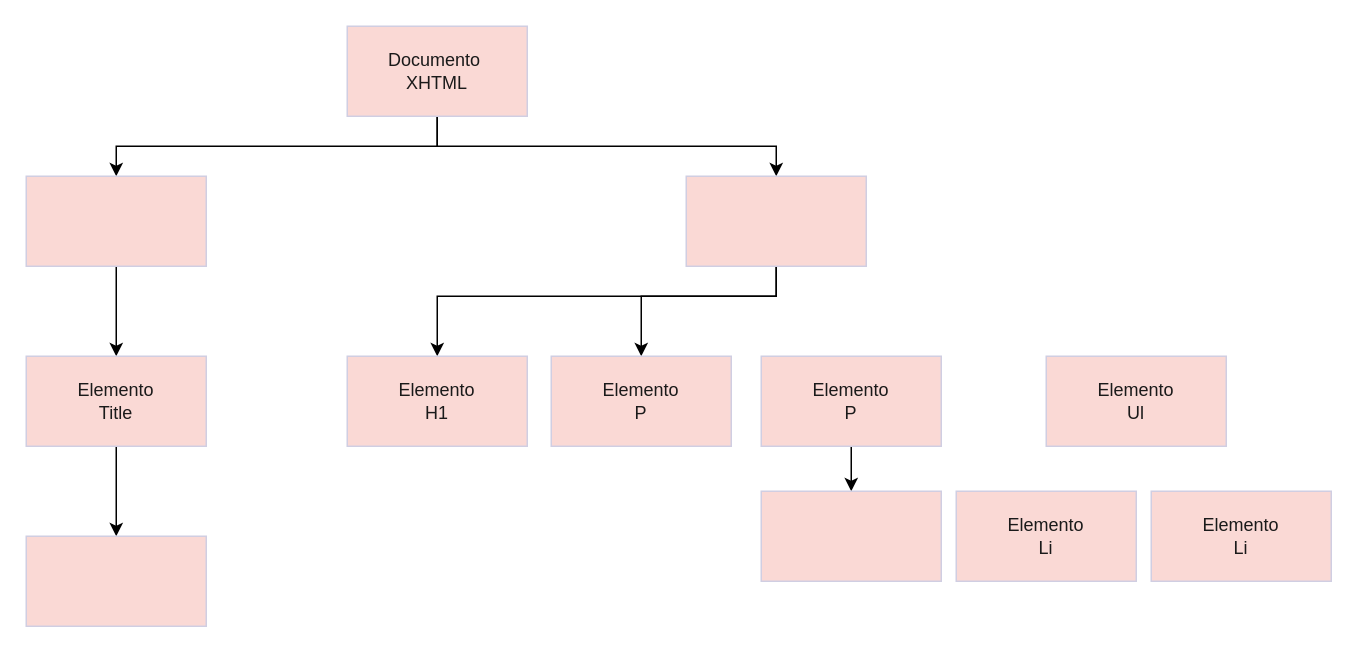
Image size: 1358x653. Some labels were removed from this diagram. Each missing label, with the box of its shape:
Elemento A: (760, 490, 941, 581)
Elemento Body: (685, 175, 866, 266)
Elemento Head: (25, 175, 206, 266)
Texto Titulo de la página: (25, 535, 206, 626)
